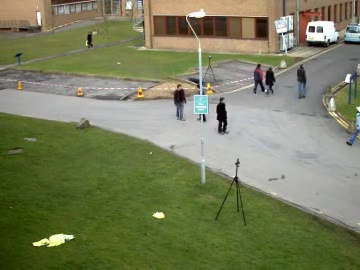person: (173, 84, 189, 120), (172, 84, 187, 121), (172, 83, 187, 120)
